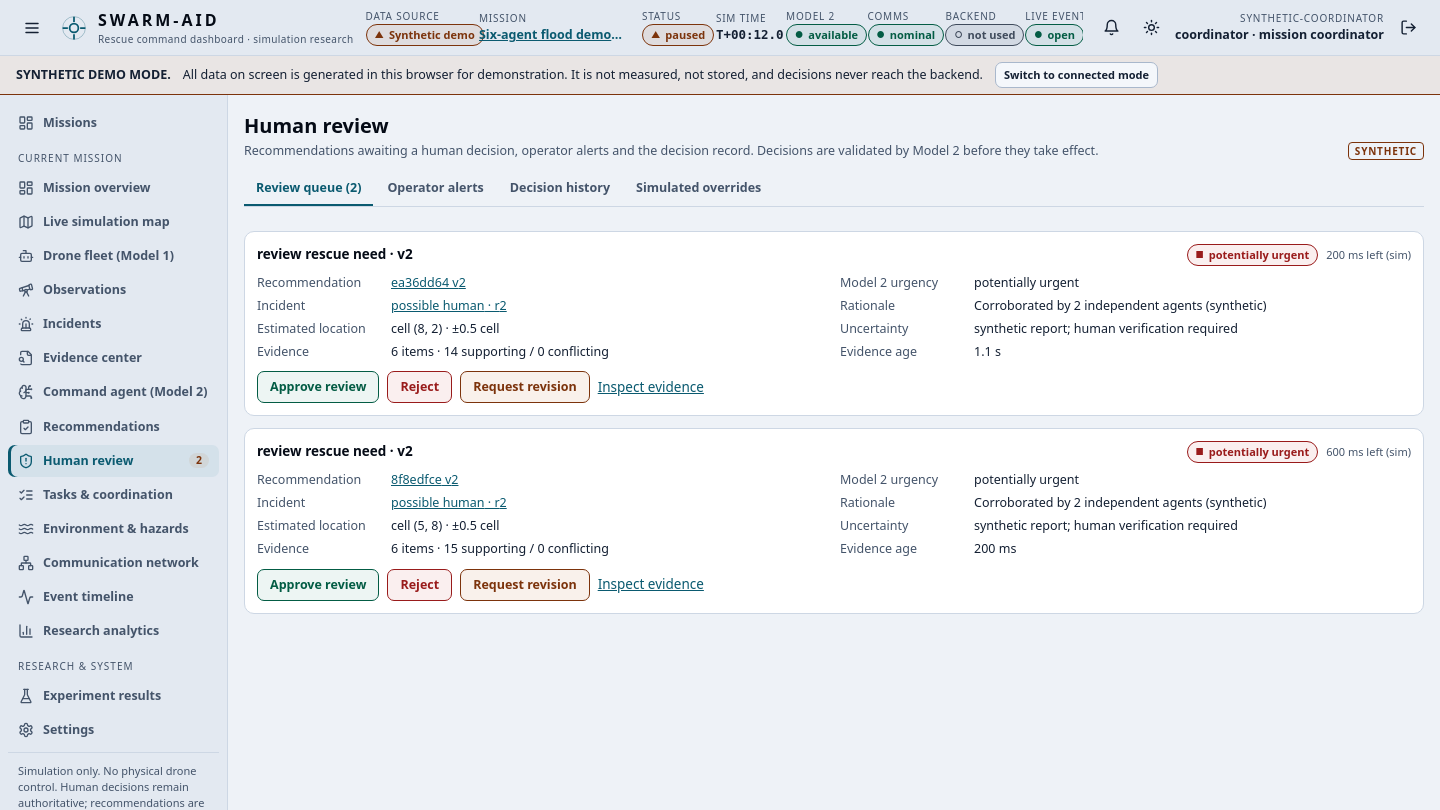
synthetic demo mode › submits a decision and shows 'submitted', never 'approved', before validation
Click the button "Approve review" below "6 items · 14 supporting / 0 conflicting".
click(318, 387)  # box x1=257 y1=371 x2=380 y2=403
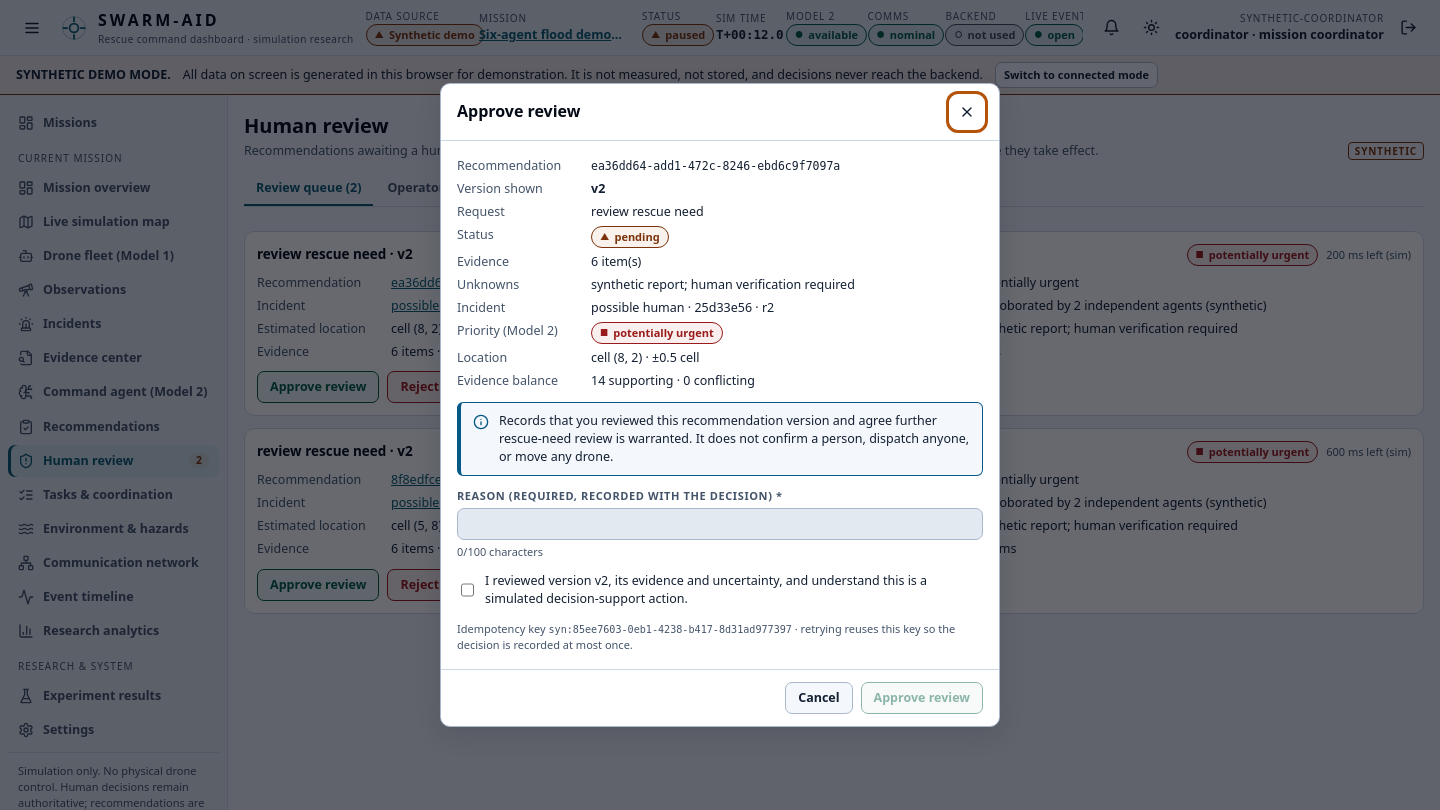
Check: the button "Approve review" is disabled, box x1=860 y1=682 x2=983 y2=714
Type "evidence reviewed" into the field labelled "Reason (required, recorded with the decision) *".
click(720, 524); type("evidence reviewed")  # box x1=457 y1=508 x2=983 y2=540
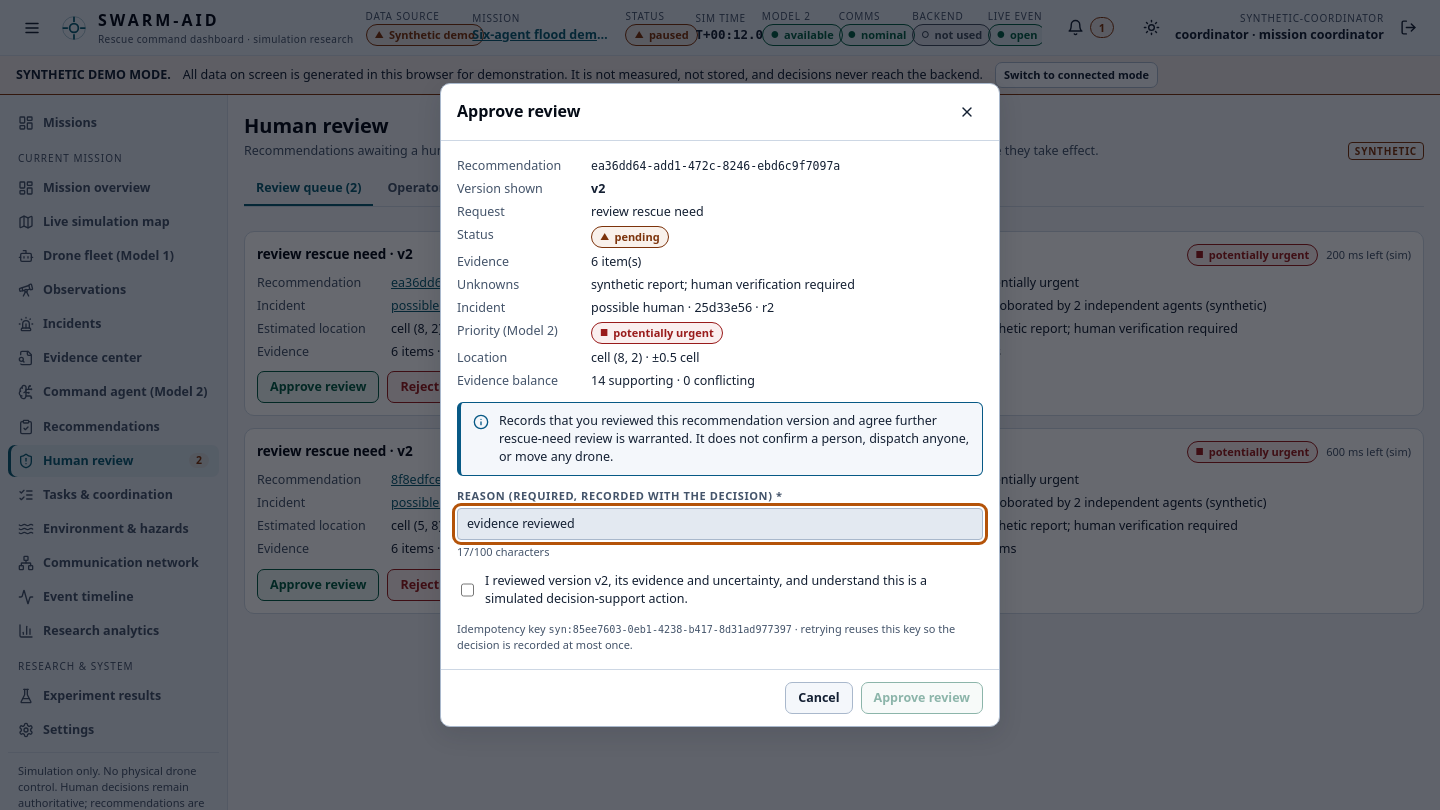
Click the checkbox.
click(468, 590)  # box x1=461 y1=582 x2=474 y2=598
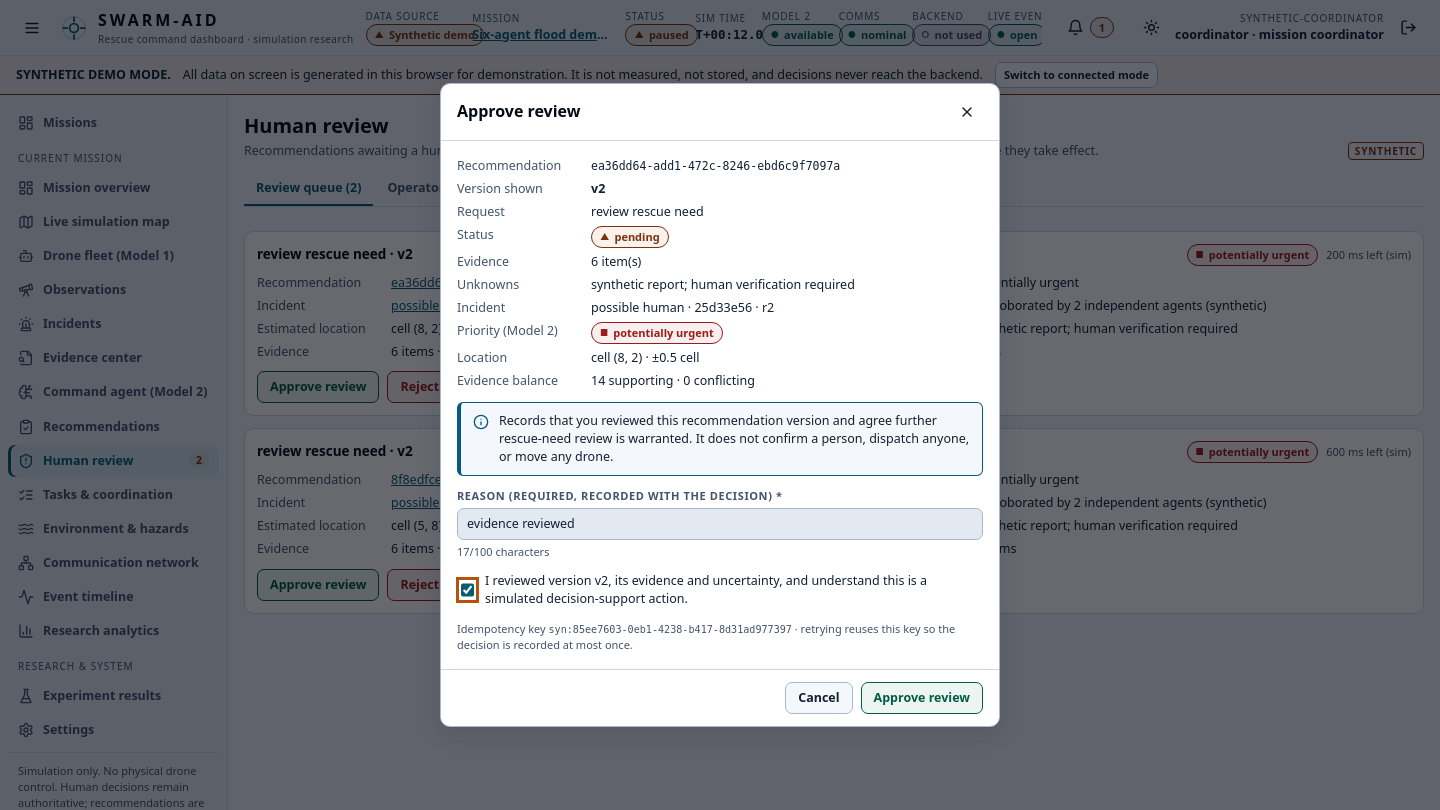
Click the button "Approve review".
click(922, 698)  # box x1=860 y1=682 x2=983 y2=714
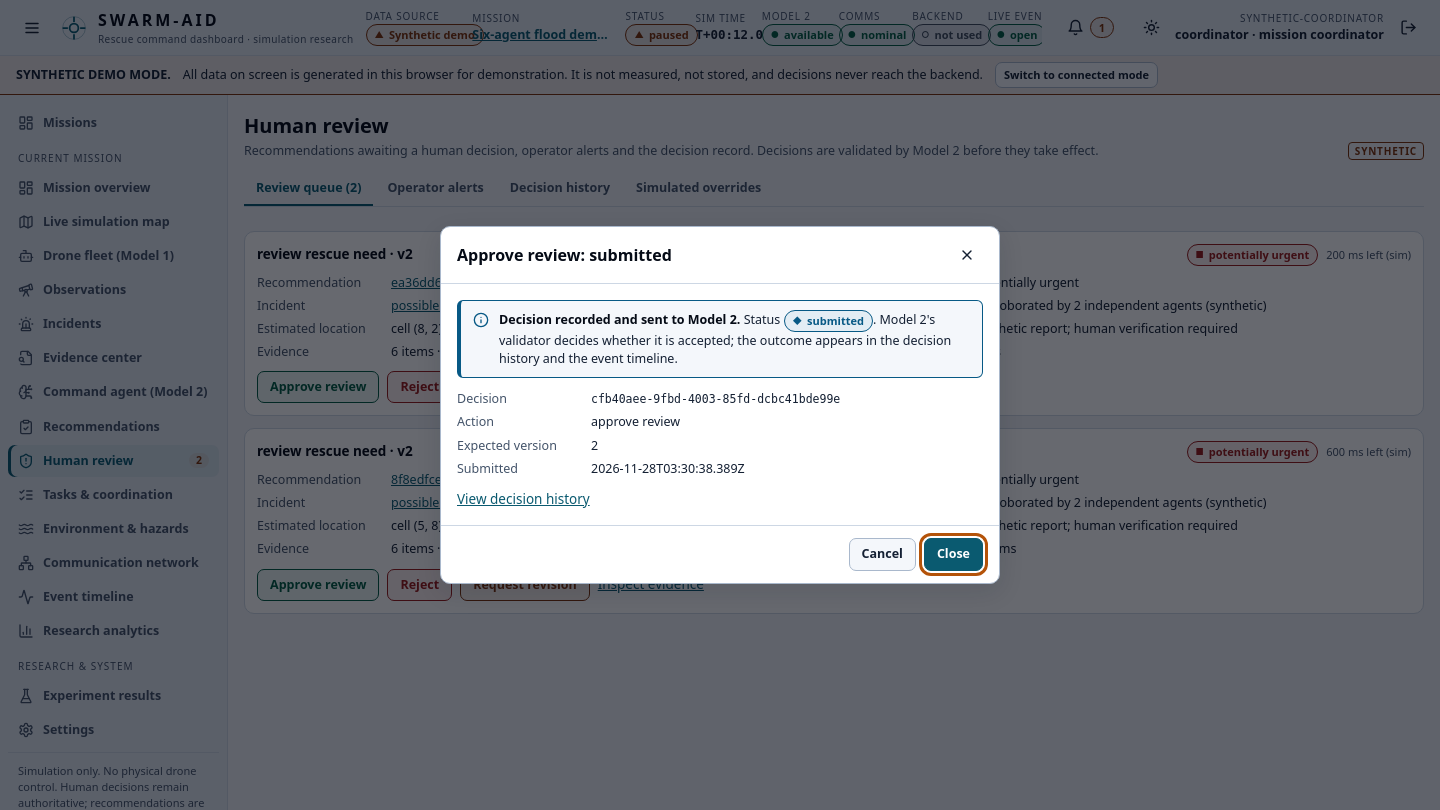
Check: the text "Decision recorded and sent to Model 2." is shown, box x1=499 y1=311 x2=744 y2=328
Check: the text "submitted" is shown, box x1=807 y1=314 x2=864 y2=328
